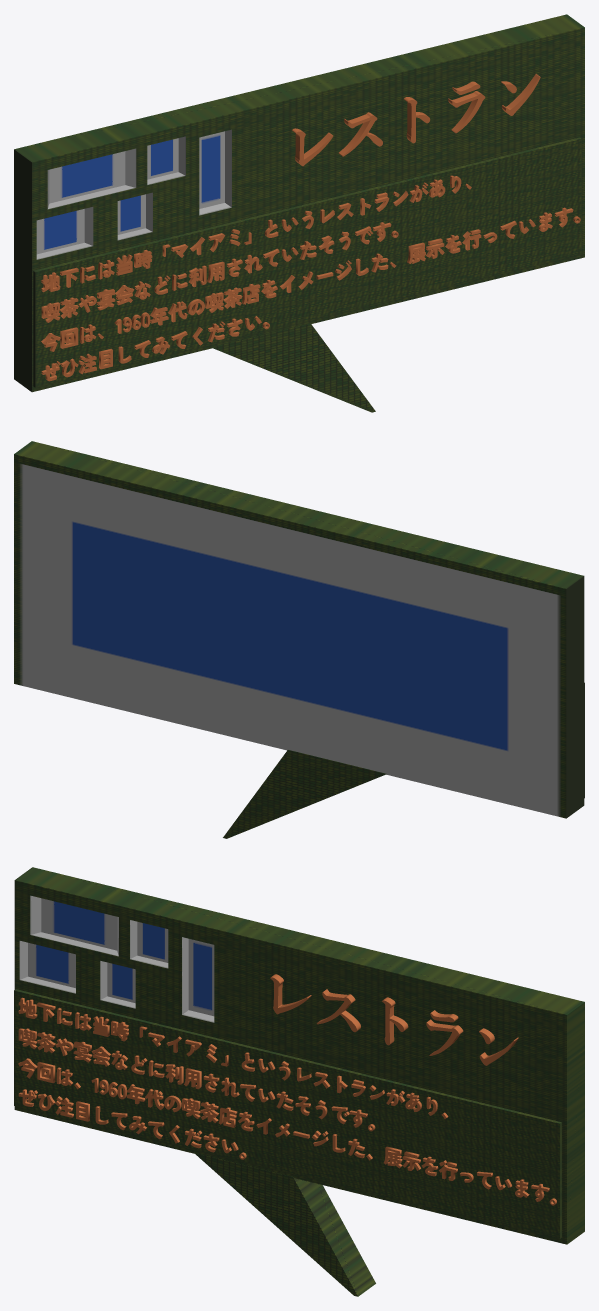
File: fukidasi-restran.glb
3 views of the same model, one above another, from view 1: azimuth 30°, elevation 25°; view 2: azimuth 150°, elevation 25°; view 3: azimuth 330°, elevation 25° (orthographic).
Parts seen in each view (by area): view 1: 立方体, 立方体.002, テキスト, 立方体.001, テキスト.002; view 2: 立方体, 立方体.001; view 3: 立方体, 立方体.002, テキスト, 立方体.001, テキスト.002.
Part boxes in pixels (box(x1,y1,x2,y2)): 立方体: box(14, 14, 584, 392); 立方体.002: box(33, 137, 581, 387); テキスト: box(41, 175, 580, 381); 立方体.001: box(211, 323, 375, 412); テキスト.002: box(292, 74, 540, 166); 立方体: box(14, 441, 584, 818); 立方体.001: box(223, 750, 386, 838); 立方体: box(14, 867, 584, 1244); 立方体.002: box(14, 989, 561, 1238); テキスト: box(18, 997, 556, 1205); 立方体.001: box(194, 1152, 375, 1296); テキスト.002: box(270, 974, 518, 1065).
Bounding box in the file's own units: 11.12 × 6.4 × 0.7737.
4 materials, 3 textured.
